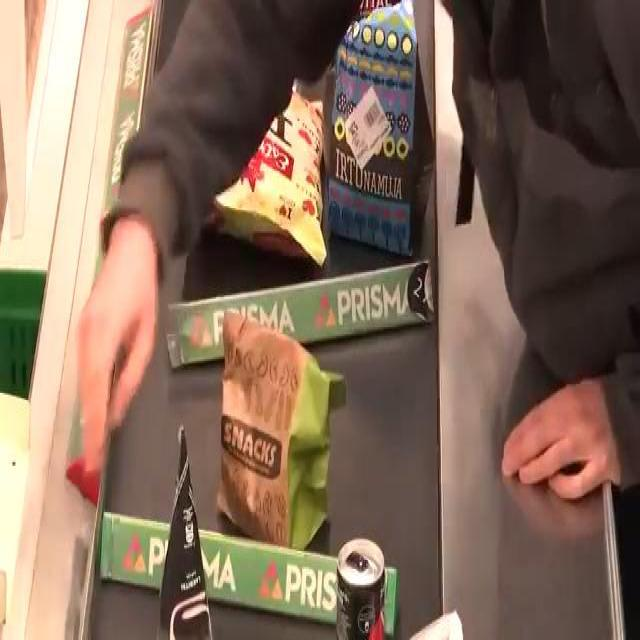beverage: (334, 544, 398, 640)
food-box: (328, 0, 428, 272), (208, 81, 333, 278), (219, 318, 334, 532), (156, 412, 219, 639)
